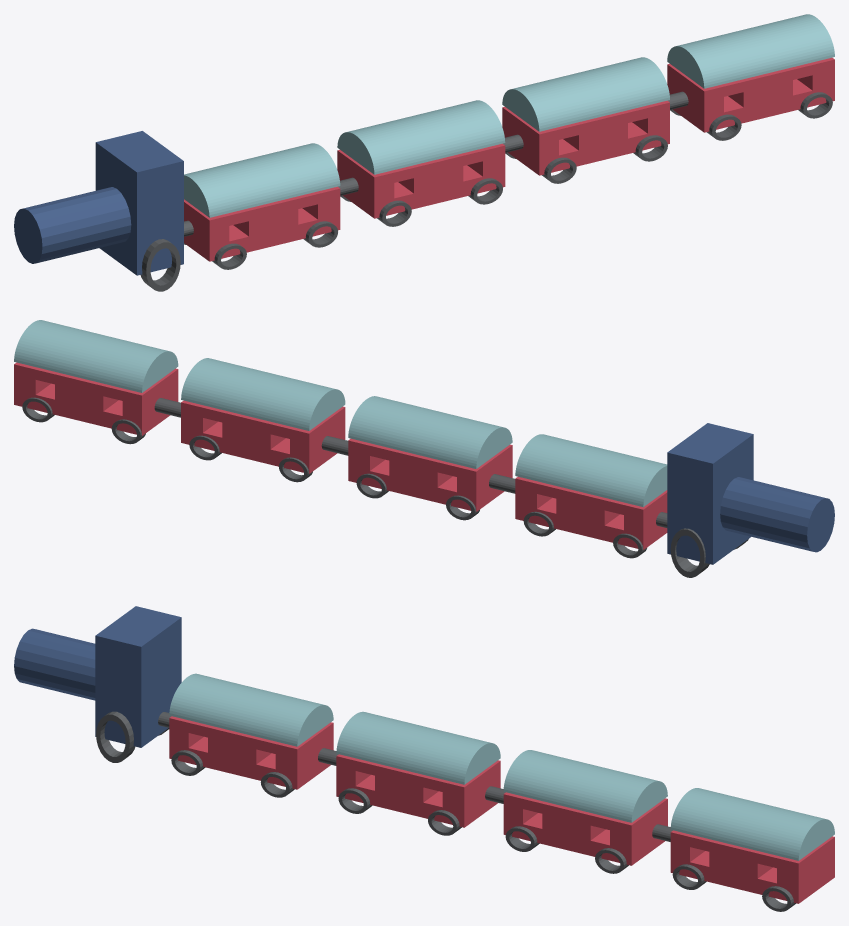
The model's file is Train in the dessert.glb.
3 views of the same model, one above another, from view 1: azimuth 30°, elevation 25°; view 2: azimuth 150°, elevation 25°; view 3: azimuth 330°, elevation 25° (orthographic). The views are drawn at different scales.
Parts seen in each view (by area): view 1: Mesh_Mesh_head_geo.001_lambert2SG.001; view 2: Mesh_Mesh_head_geo.001_lambert2SG.001; view 3: Mesh_Mesh_head_geo.001_lambert2SG.001.
Boxes of the visible parts, bbox=[...] form: Mesh_Mesh_head_geo.001_lambert2SG.001: bbox=[14, 14, 834, 291]; Mesh_Mesh_head_geo.001_lambert2SG.001: bbox=[14, 320, 834, 577]; Mesh_Mesh_head_geo.001_lambert2SG.001: bbox=[14, 606, 834, 911].
Size of the model in its own units: 323 by 47 by 37.
